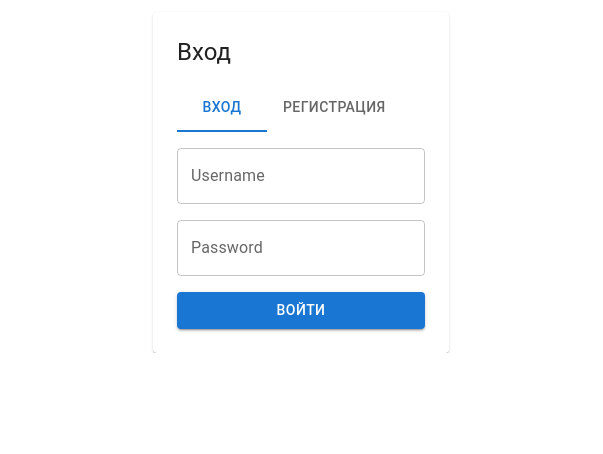
Test: AuthForm › login error: shows required error message text
In the field labelled "Username": [301, 176] box [177, 148, 425, 204], type "user12345"
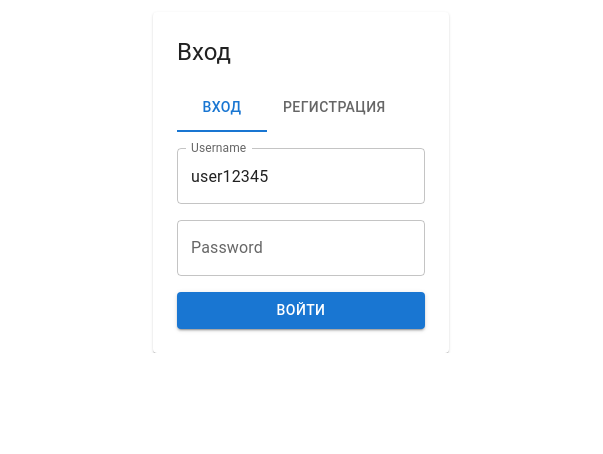
In the password field labelled "Password": [301, 248] box [177, 220, 425, 276], type "password12345"
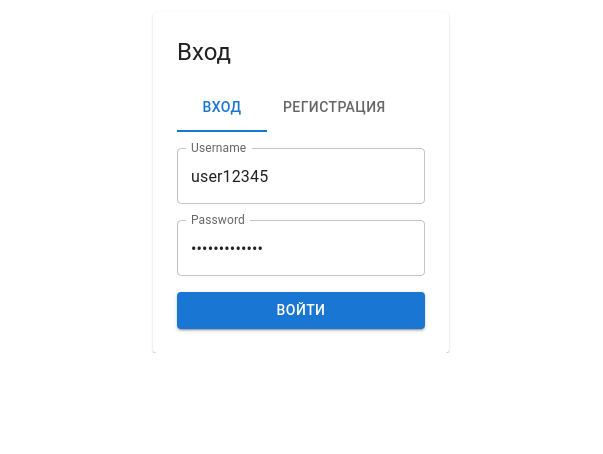
Click the button "Войти": [301, 310] box [177, 292, 425, 328]
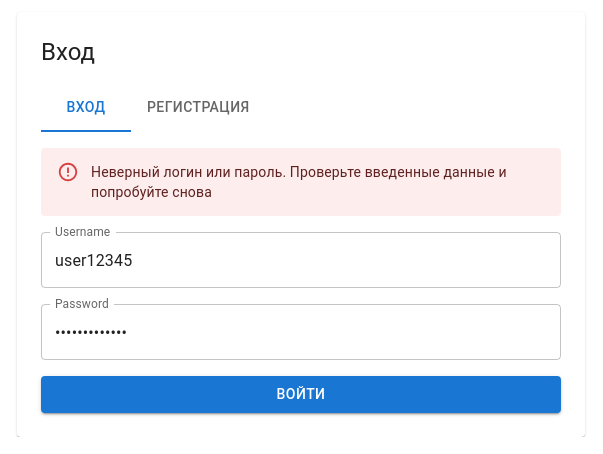
Expected: the text "Неверный логин или пароль. Проверьте введенные данные и попробуйте снова" is shown, [91, 154, 545, 210]
